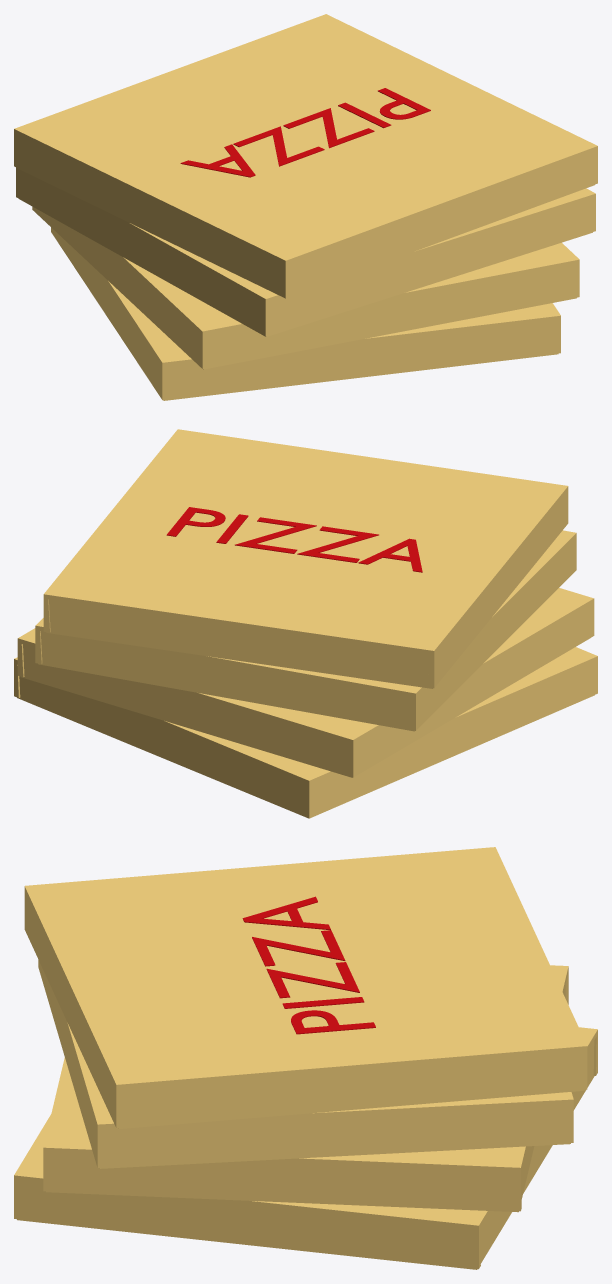
3 views of the same model, one above another, from view 1: azimuth 30°, elevation 25°; view 2: azimuth 150°, elevation 25°; view 3: azimuth 270°, elevation 25° (orthographic). The views are drawn at different scales.
Visible parts, largest first — view 1: StackOfPizzaBoxes; view 2: StackOfPizzaBoxes; view 3: StackOfPizzaBoxes.
Part boxes in pixels (x1,y1,x2,y2): StackOfPizzaBoxes: (14, 14, 597, 400); StackOfPizzaBoxes: (14, 429, 597, 818); StackOfPizzaBoxes: (14, 847, 597, 1269).
Size of what is drawn, in the model's own units: 0.4916 by 0.1696 by 0.4916.
1 material, 1 textured.
